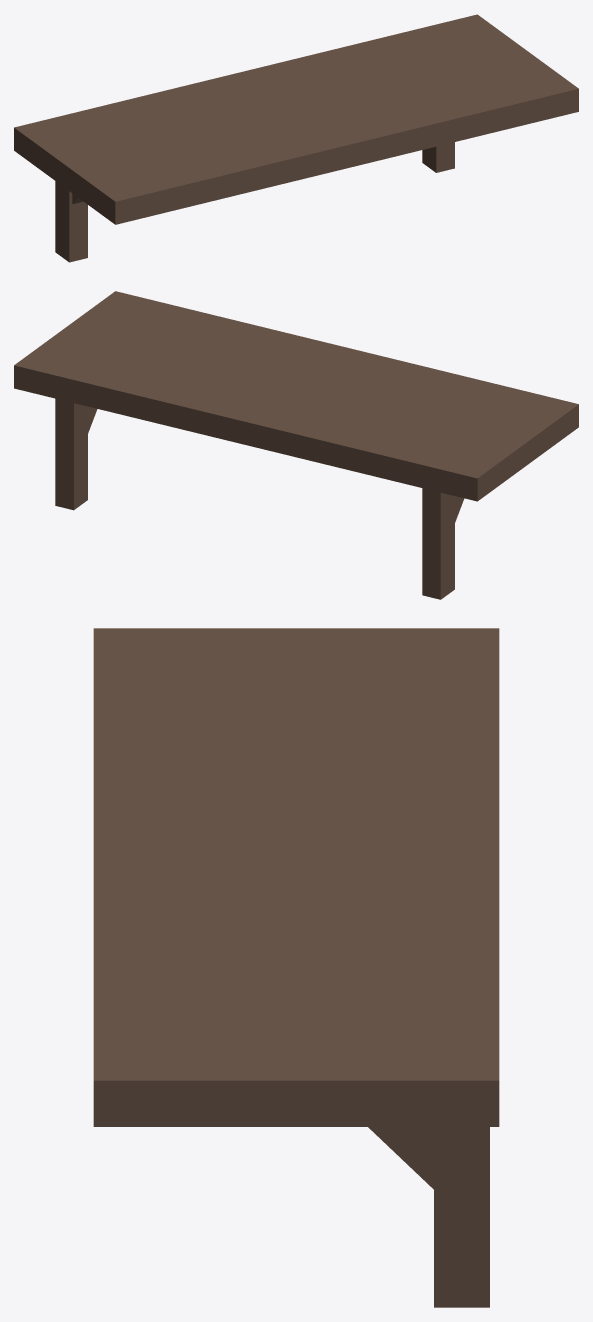
The model's file is WallShelf_W.fbx.
3 views of the same model, one above another, from view 1: azimuth 30°, elevation 25°; view 2: azimuth 150°, elevation 25°; view 3: azimuth 270°, elevation 25° (orthographic). The views are drawn at different scales.
Parts seen in each view (by area): view 1: WallShelf_05; view 2: WallShelf_05; view 3: WallShelf_05.
Boxes of the visible parts, box(x1,y1,x2,y2) form: WallShelf_05: box(14, 14, 578, 262); WallShelf_05: box(14, 291, 578, 599); WallShelf_05: box(93, 628, 499, 1307).
Bounding box in the file's own units: 86.52 × 23.65 × 32.81.
